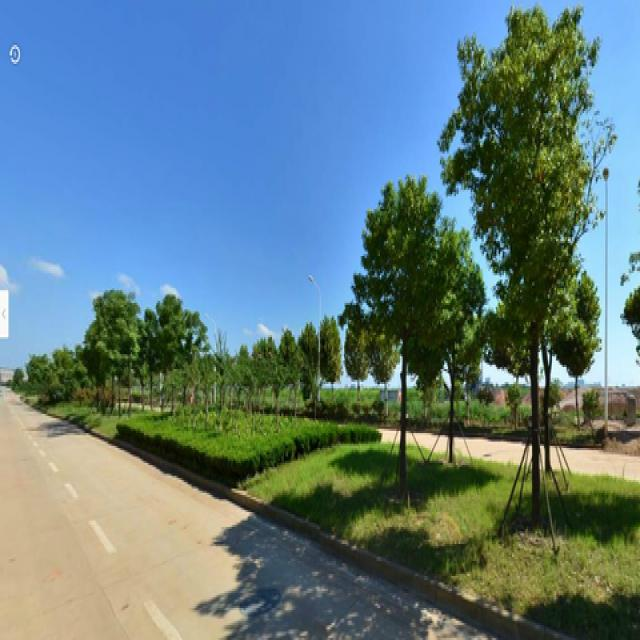cinn: (476, 38, 576, 525), (371, 192, 453, 480)
